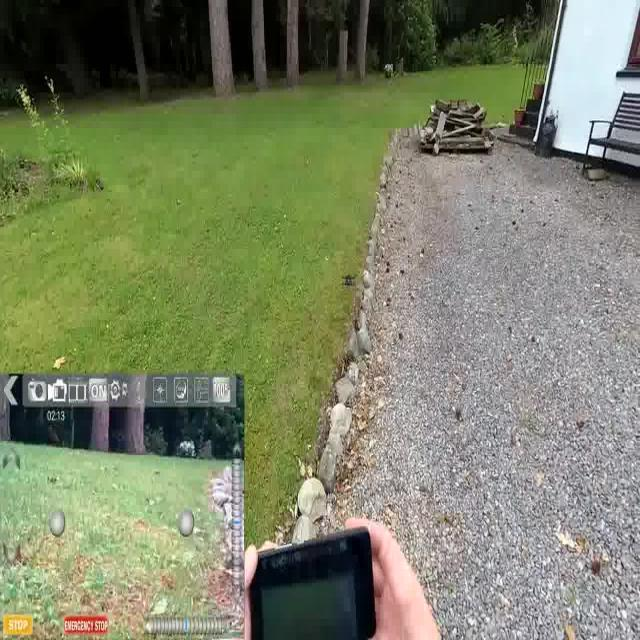drones: (337, 270, 361, 294)
